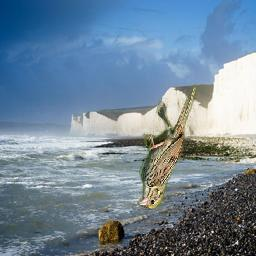Sparrow: (138, 83, 197, 209)
